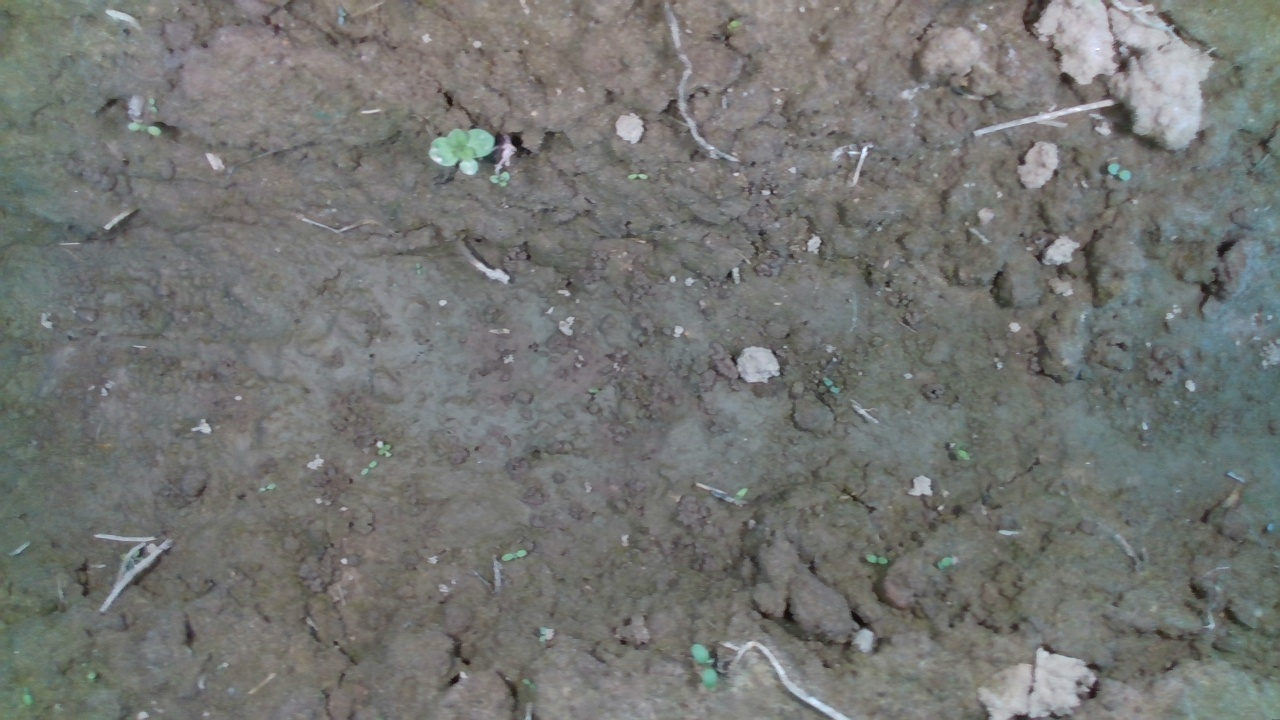weed: (364, 441, 396, 460)
